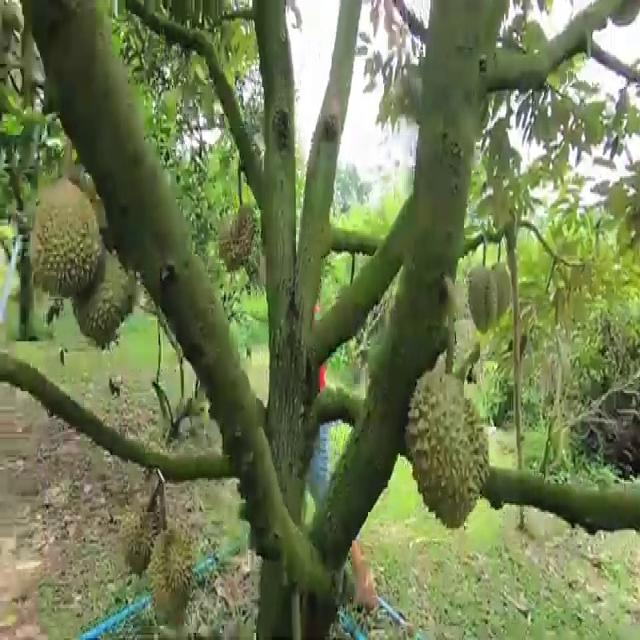durian: (402, 358, 493, 536), (23, 168, 105, 299), (65, 236, 139, 349), (140, 517, 200, 634), (115, 501, 161, 580), (212, 198, 257, 278), (461, 260, 496, 338), (480, 256, 515, 326)
